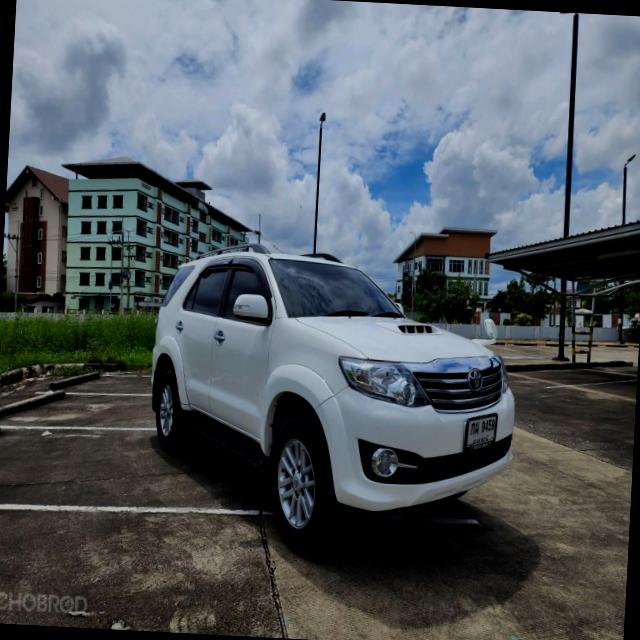license_plate: (461, 406, 502, 459)
